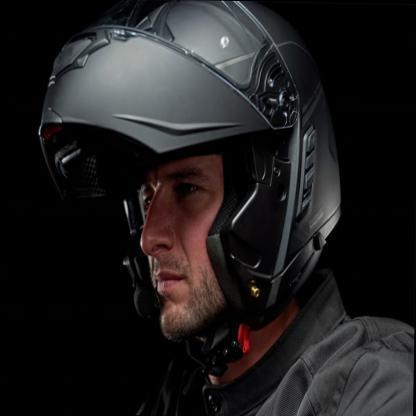helmet: (36, 0, 342, 338)
